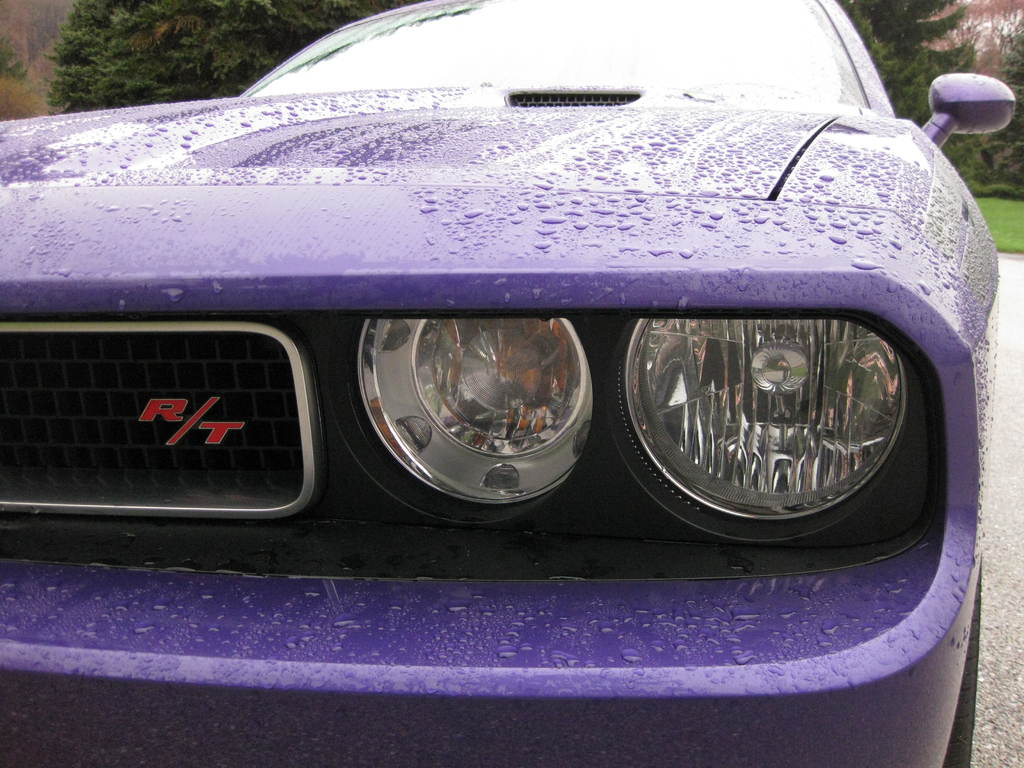Car: (0, 68, 1024, 718)
